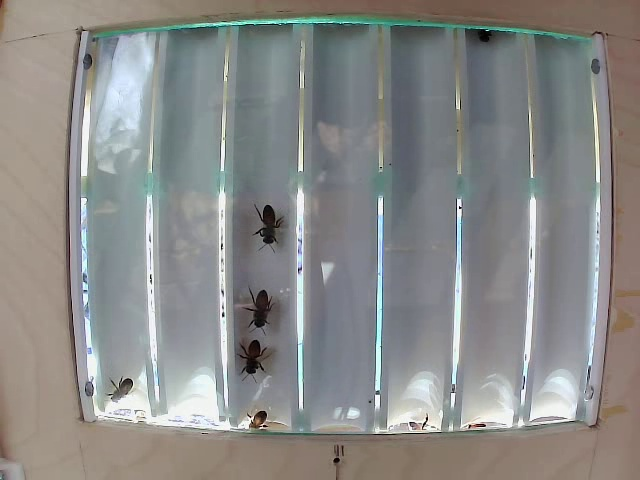bee: (228, 327, 275, 376), (242, 285, 281, 331), (105, 360, 136, 410), (256, 191, 281, 246)
